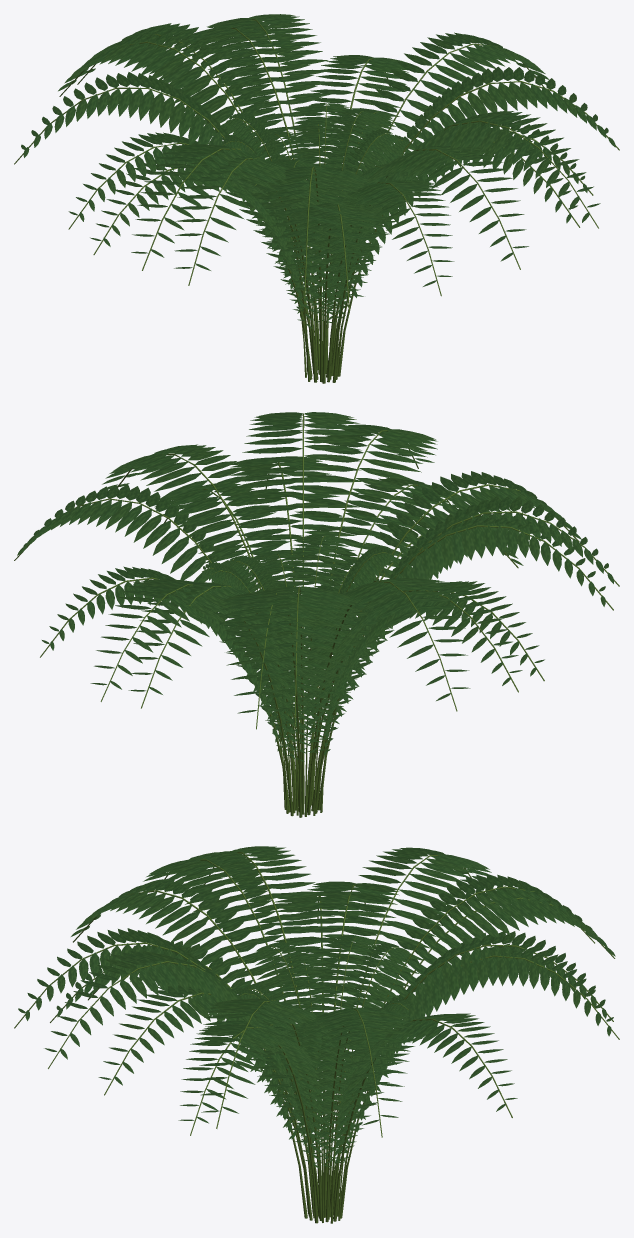
Rendered from fernb.glb.
3 views of the same model, one above another, from view 1: azimuth 30°, elevation 25°; view 2: azimuth 150°, elevation 25°; view 3: azimuth 270°, elevation 25° (orthographic). The views are drawn at different scales.
Parts seen in each view (by area): view 1: Foliage, Stems; view 2: Foliage, Stems; view 3: Foliage, Stems.
Part boxes in pixels (bbox=[...]): Foliage: bbox=[21, 14, 615, 328]; Stems: bbox=[14, 19, 619, 383]; Foliage: bbox=[17, 412, 613, 761]; Stems: bbox=[14, 413, 619, 817]; Foliage: bbox=[18, 846, 615, 1168]; Stems: bbox=[14, 851, 619, 1223].
Bounding box in the file's own units: 1.37 × 0.78 × 1.45.
2 materials, 1 textured.
